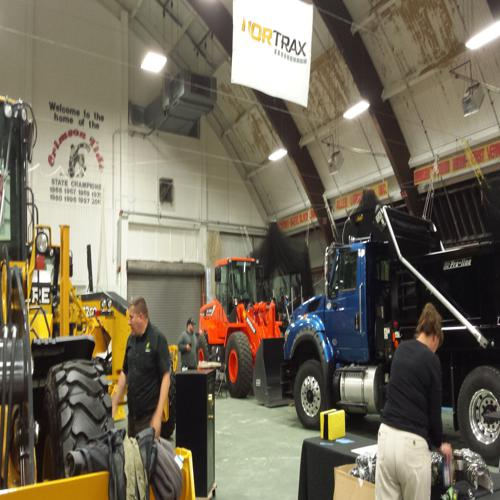con_eq: (1, 96, 133, 481)
